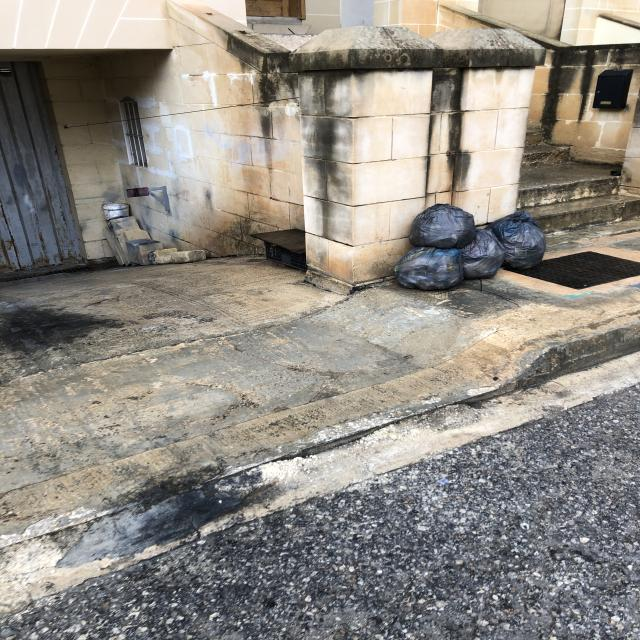Mixed Waste -Black Bag-: (491, 214, 547, 270), (395, 247, 466, 290), (413, 205, 477, 249), (460, 229, 507, 280)
